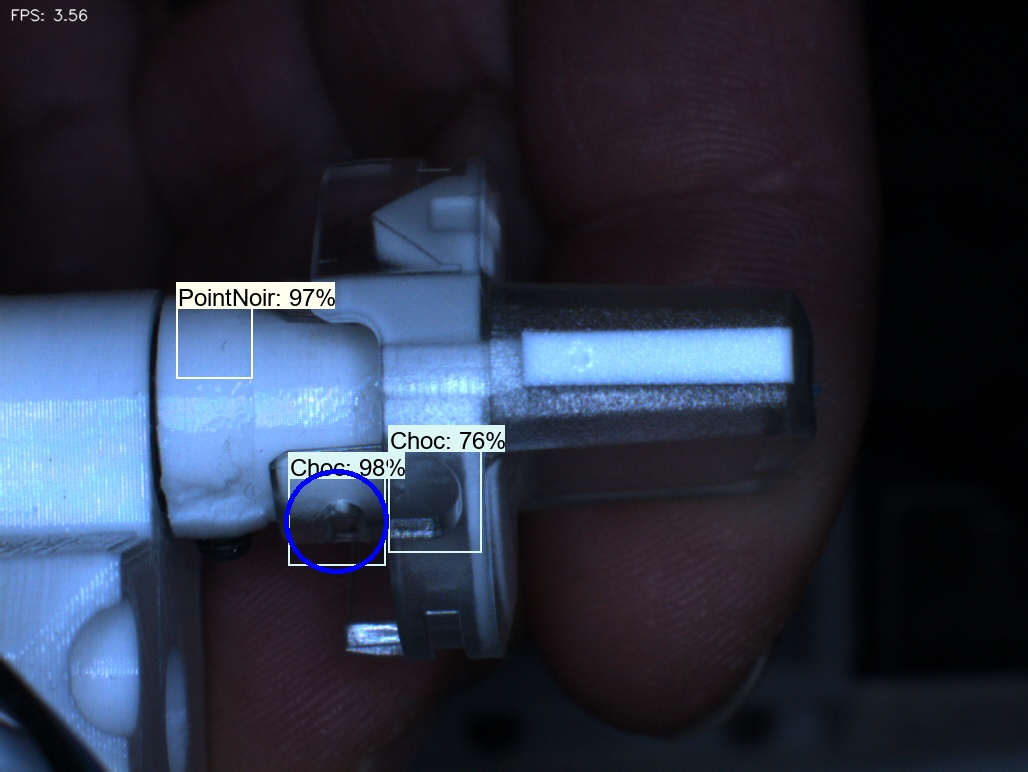DentOk: (338, 188, 417, 280)
